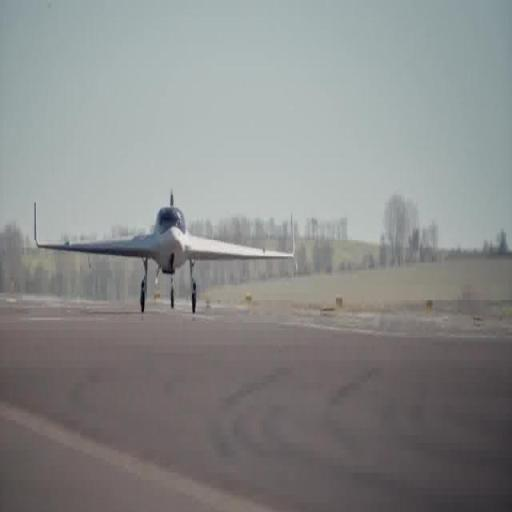uav: (28, 179, 304, 317)
